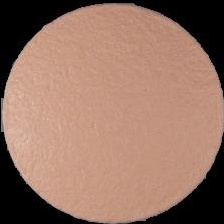63739-079: (0, 0, 224, 224)
